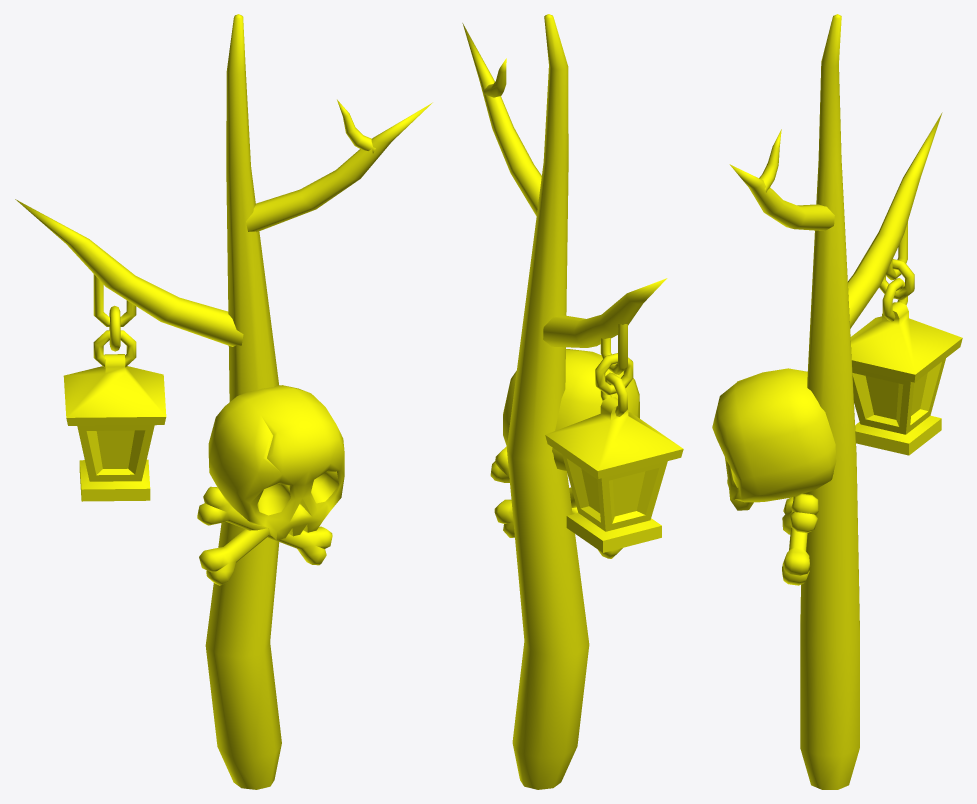
Rendered from kaykit-tree-dead-large-decorated.glb.
3 renders of one model, left to right at view 1: azimuth 30°, elevation 25°; view 2: azimuth 150°, elevation 25°; view 3: azimuth 270°, elevation 25°, orthographic.
Visible parts, largest first — view 1: tree_dead_large_decorated; view 2: tree_dead_large_decorated; view 3: tree_dead_large_decorated.
Boxes of the visible parts, x1=… form: tree_dead_large_decorated: x1=15, y1=14, x2=432, y2=789; tree_dead_large_decorated: x1=462, y1=14, x2=683, y2=789; tree_dead_large_decorated: x1=712, y1=14, x2=962, y2=789.
Size of the model in its own units: 2.3 by 5.42 by 1.61.
